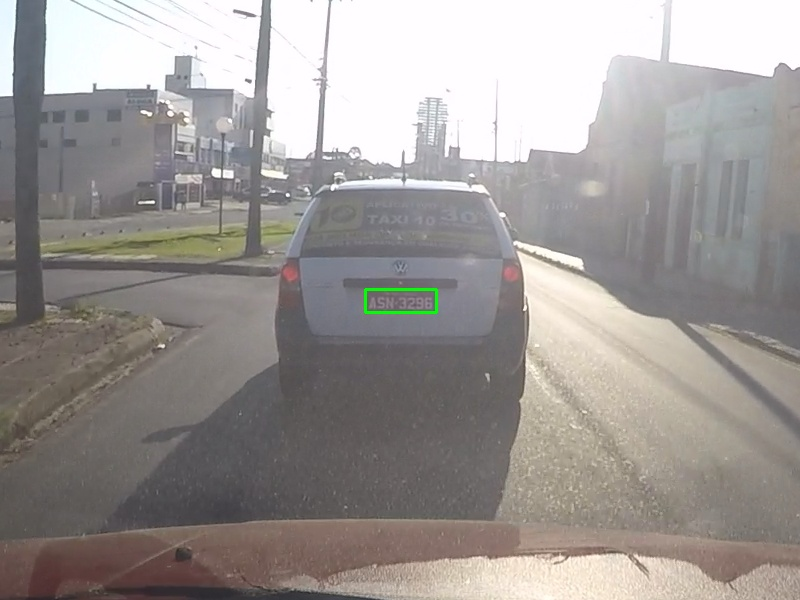placa: (365, 289, 436, 312)
